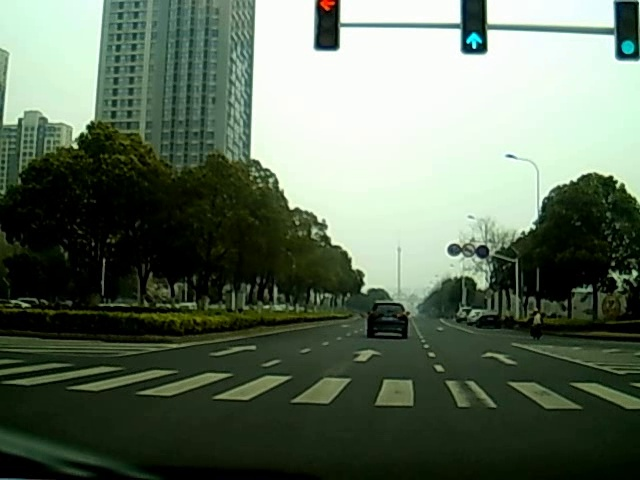Traffic_Light_go: (463, 11, 485, 53), (617, 22, 638, 61)
